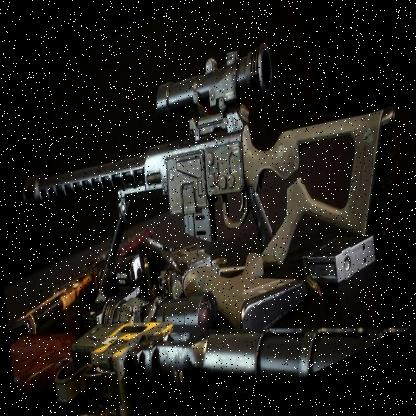rifle: (20, 0, 402, 389)
